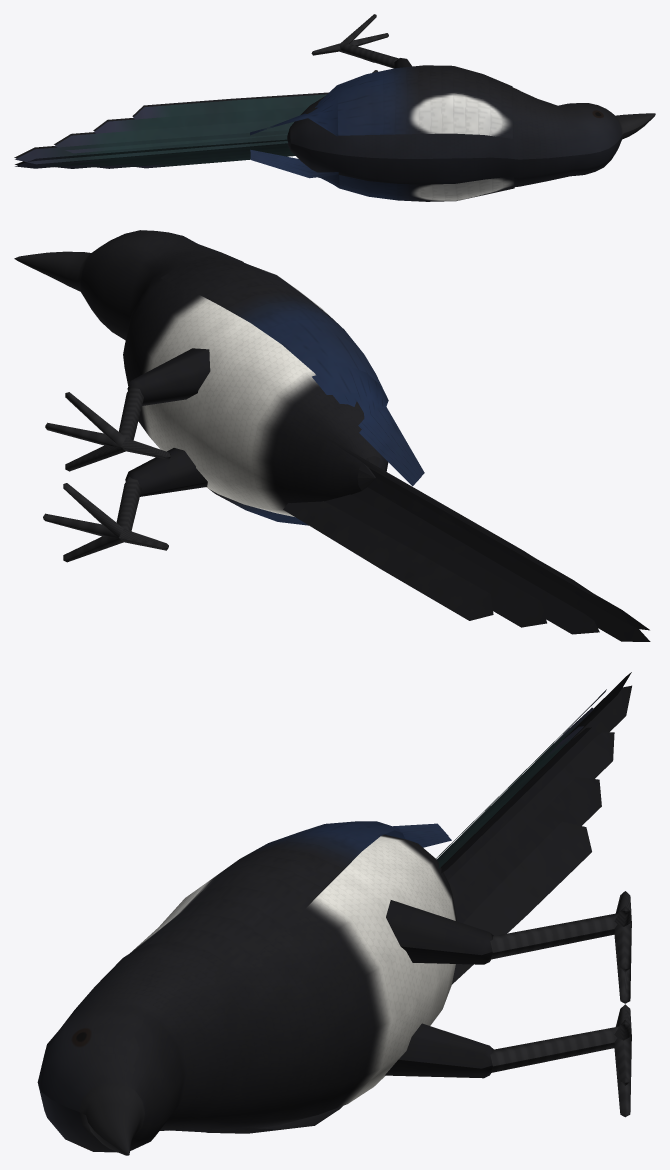
The model's file is bird_magpie.obj.
3 views of the same model, one above another, from view 1: azimuth 30°, elevation 25°; view 2: azimuth 150°, elevation 25°; view 3: azimuth 270°, elevation 25° (orthographic). The views are drawn at different scales.
Parts seen in each view (by area): view 1: bird_magpie; view 2: bird_magpie; view 3: bird_magpie.
Part boxes in pixels (box(x1,y1,x2,y2)): bird_magpie: box(14, 14, 655, 201); bird_magpie: box(14, 230, 650, 641); bird_magpie: box(37, 672, 631, 1155).
Size of the model in its own units: 0.4447 by 0.1027 by 0.2212.
Materials: 1 (1 with a texture image).
